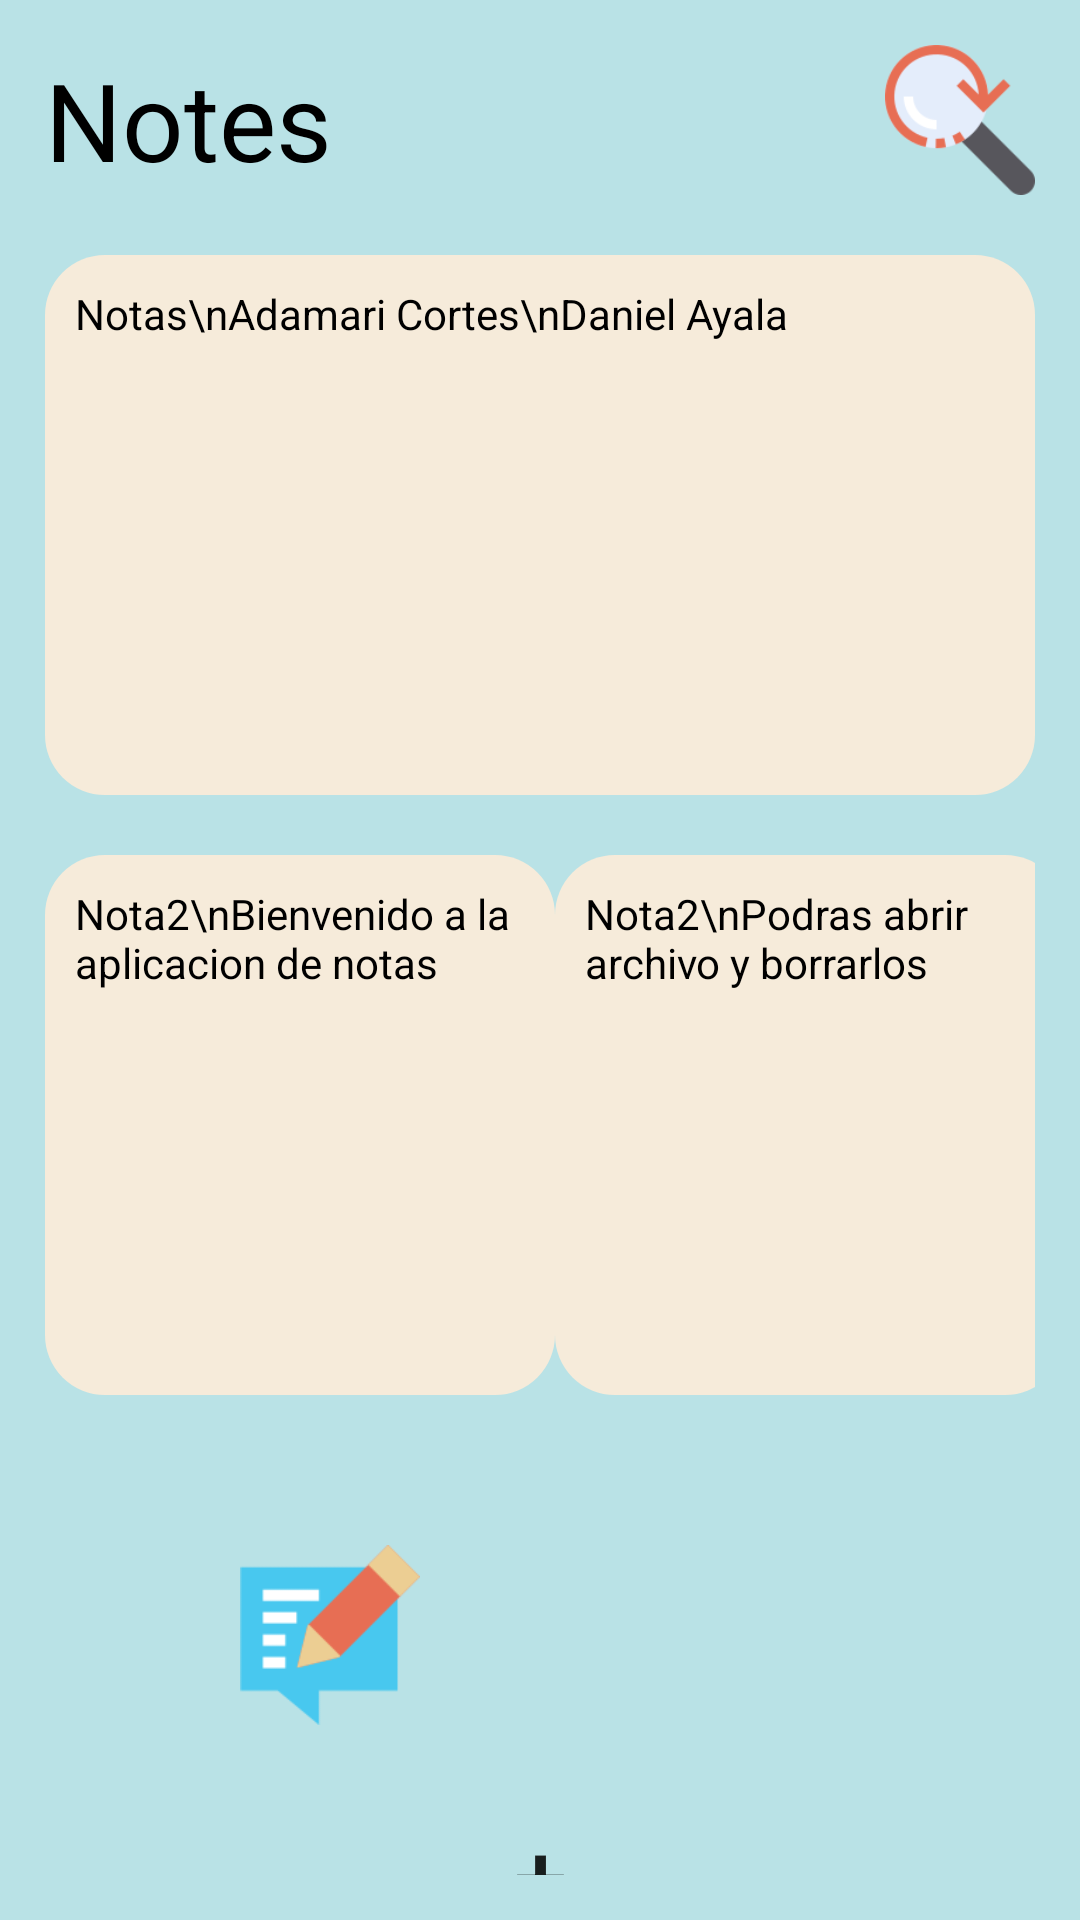

Screen size 1080px×1920px. Icon name, then its center in pixels as [x,y]:
buscar: [960,120]
